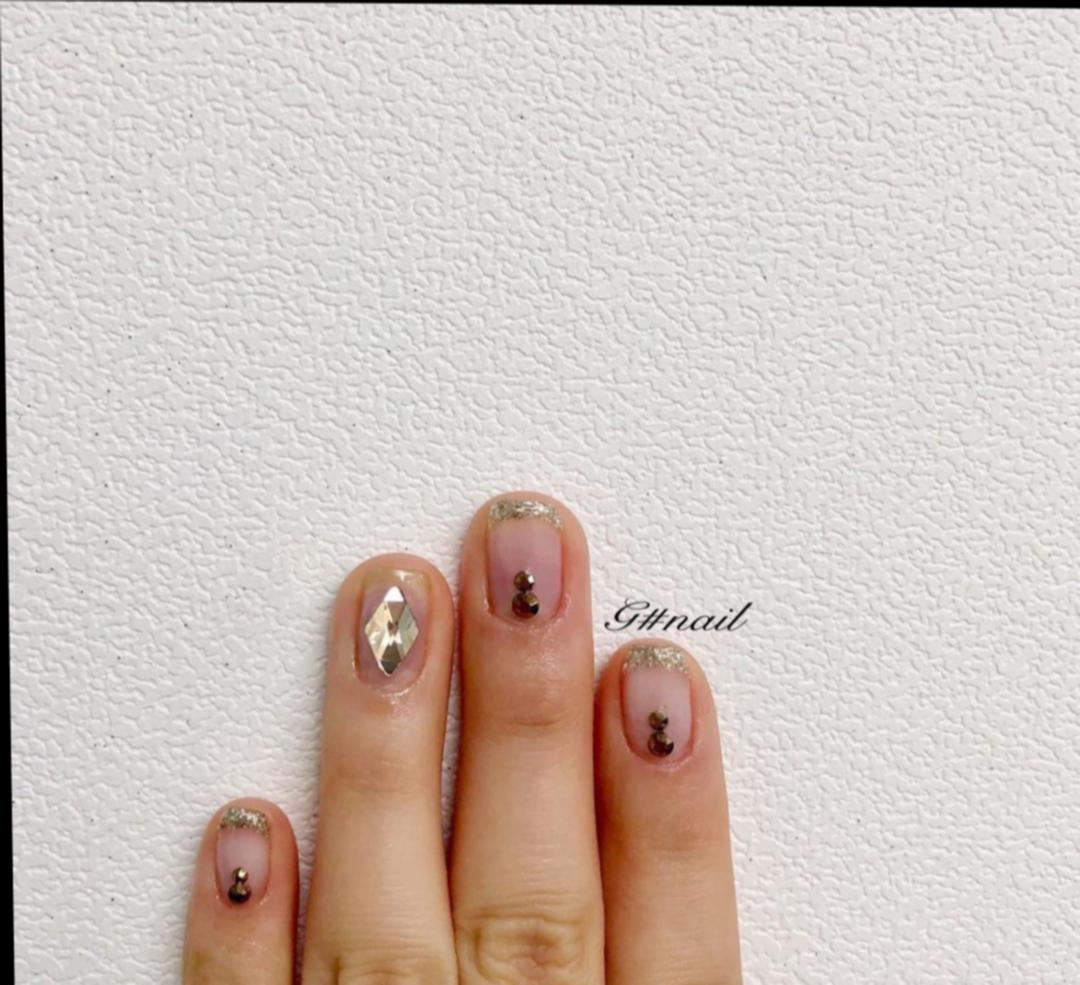nail: (482, 493, 566, 624), (616, 641, 695, 766), (212, 805, 272, 907)
